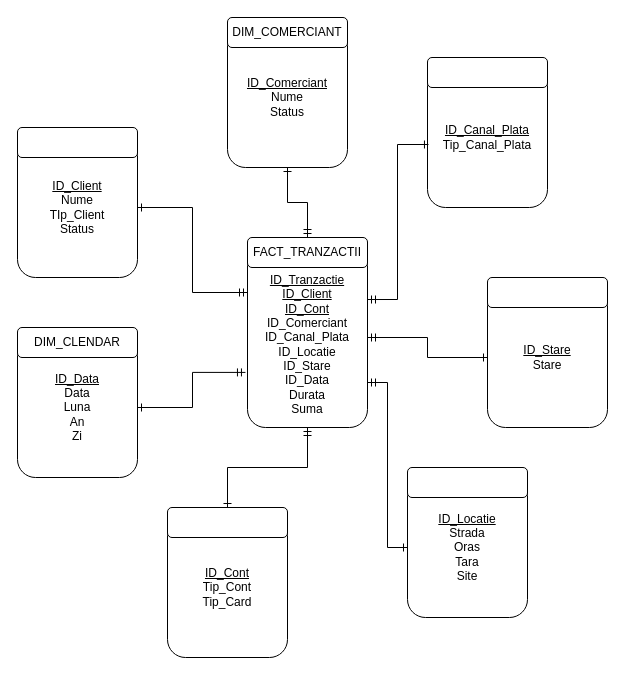
Some shapes in this 625 by 675 pixel diagram are drawn without their labels. The shapes that lost their labels are listed below. From the top down, each one's centre as x and y in pixels, then its label:
At (487,72): "DIM_CANAL_PLATA".
At (77,142): "DIM_CLIENT".
At (547,292): "DIM_STARE".
At (467,482): "DIM_LOCATIE".
At (227,522): "DIM_DETALII_PLATA".
